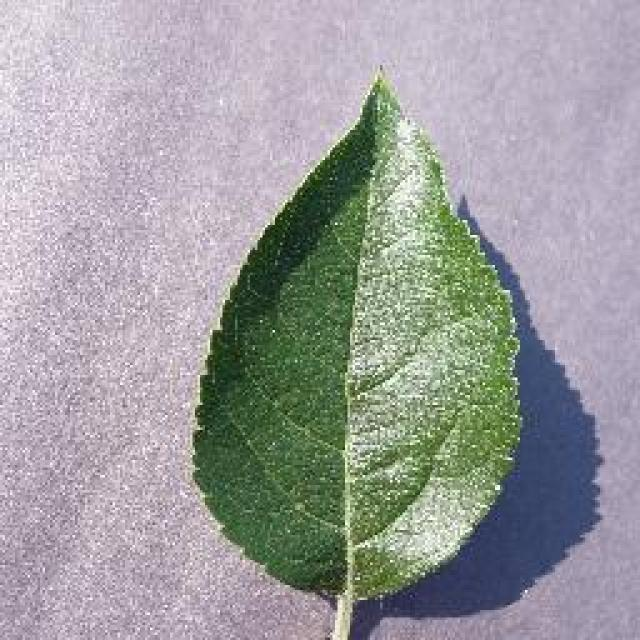App_healthy: (204, 135, 494, 560)
